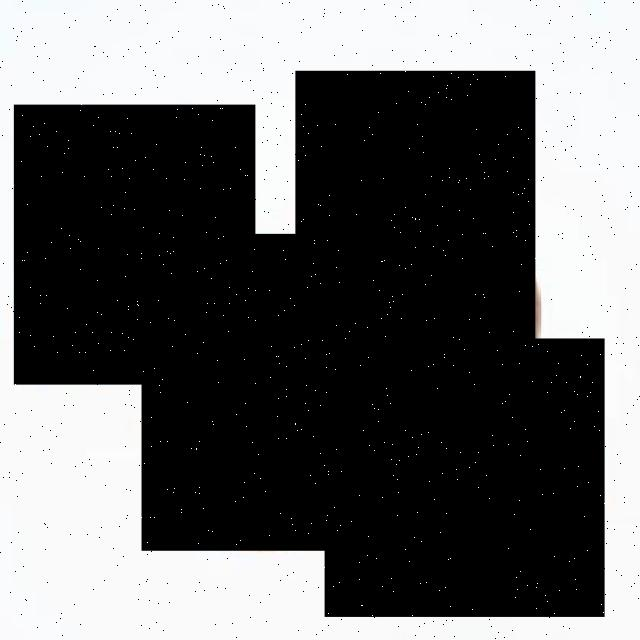Mushroom: (296, 71, 535, 414), (326, 338, 606, 617), (142, 234, 367, 550), (14, 106, 255, 386)
